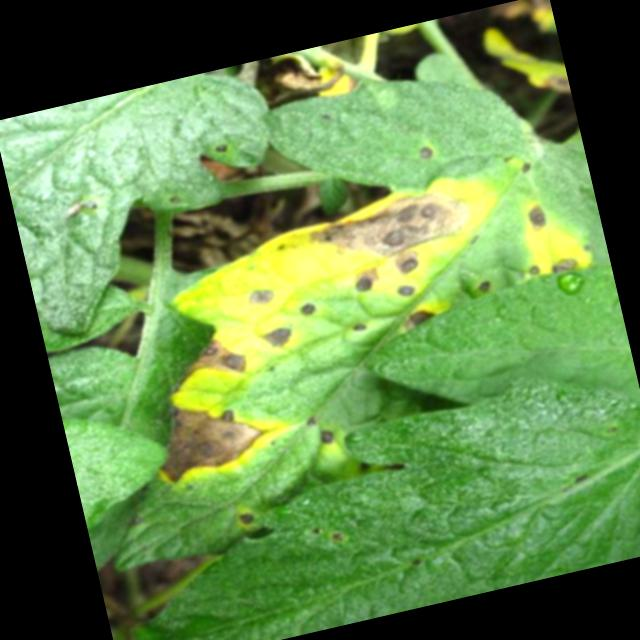Early_blight: (297, 174, 478, 273), (143, 381, 293, 490), (154, 329, 251, 397), (385, 247, 423, 280), (399, 300, 440, 329), (347, 263, 382, 296), (519, 200, 550, 235), (258, 322, 294, 352), (242, 282, 276, 310), (548, 251, 580, 277), (232, 501, 258, 530), (392, 277, 419, 301), (313, 425, 336, 448), (414, 143, 437, 160), (295, 298, 316, 316), (473, 277, 492, 294), (347, 319, 368, 334)
